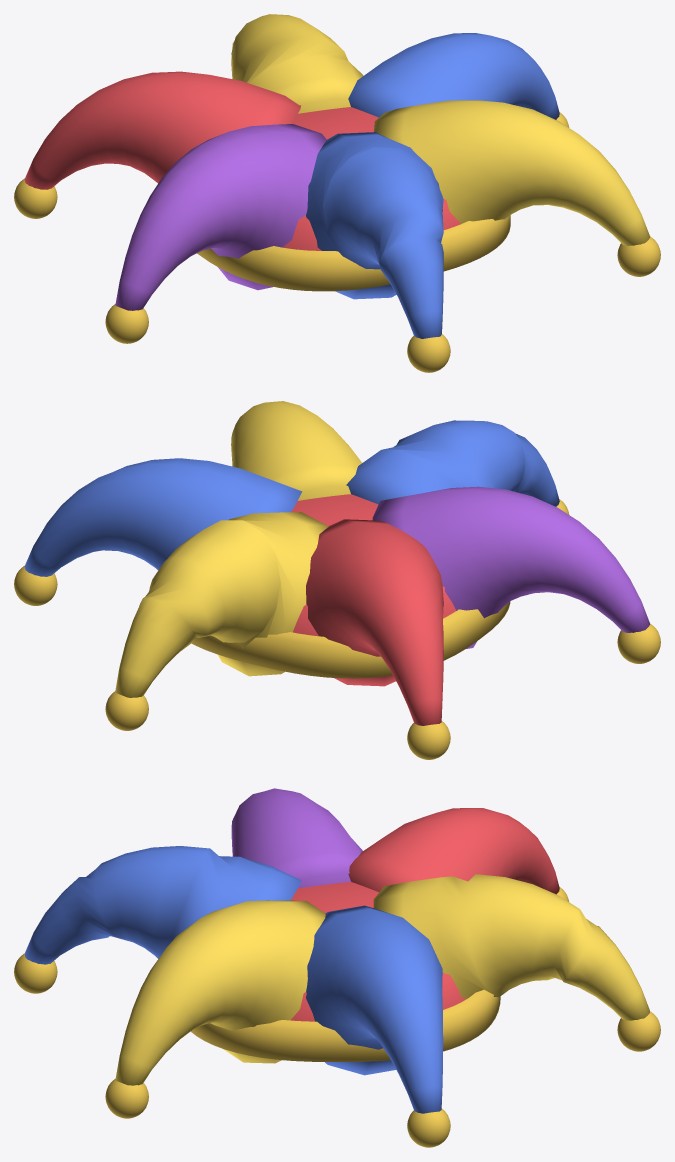
Rendered from JesterHat.glb.
The picture shows the model from 3 angles, top to bottom: view 1: azimuth 30°, elevation 25°; view 2: azimuth 150°, elevation 25°; view 3: azimuth 270°, elevation 25°; orthographic projection.
Parts seen in each view (by area): view 1: JesterHat; view 2: JesterHat; view 3: JesterHat.
Boxes of the visible parts, bbox=[...] form: JesterHat: bbox=[14, 14, 660, 372]; JesterHat: bbox=[14, 401, 660, 759]; JesterHat: bbox=[14, 788, 660, 1147].
Size of the model in its own units: 2.91 by 0.7805 by 2.97.
